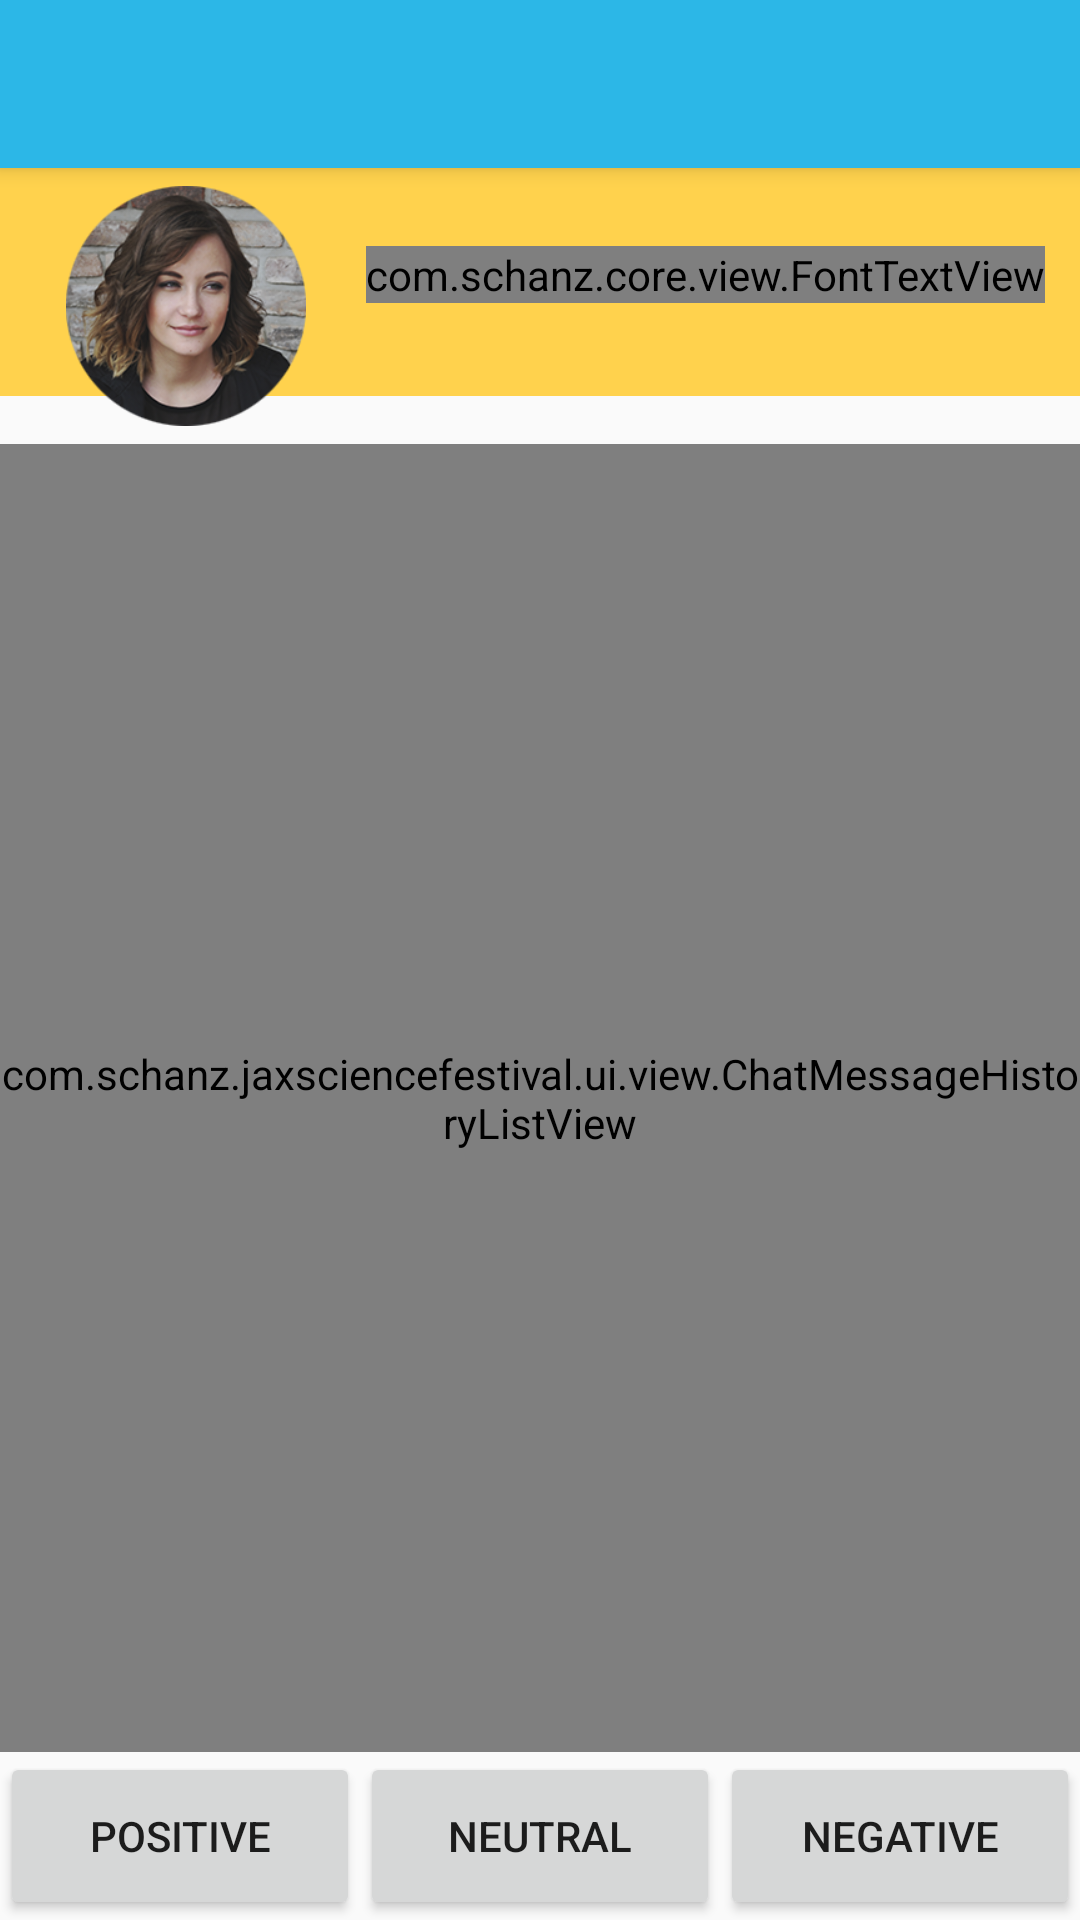

Point at icon controls on the screen. Image size 1080w x 1920h, points as [x,y].
profile woman: [186,306]
